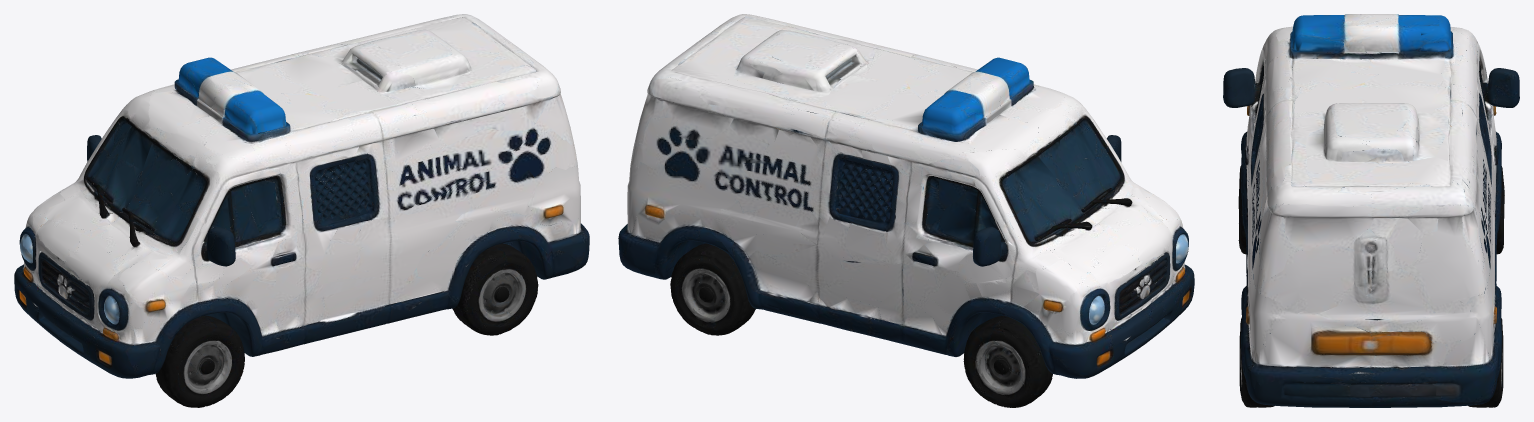
File: van_animal_control.glb
The picture shows the model from 3 angles, left to right: view 1: azimuth 30°, elevation 25°; view 2: azimuth 150°, elevation 25°; view 3: azimuth 270°, elevation 25°; orthographic projection. The views are drawn at different scales.
Visible parts, largest first — view 1: Mesh_0; view 2: Mesh_0; view 3: Mesh_0.
Boxes of the visible parts, <box> form: Mesh_0: <box>14,14,589,407</box>; Mesh_0: <box>618,14,1194,407</box>; Mesh_0: <box>1223,14,1519,407</box>.
Bounding box in the file's own units: 4 × 2.04 × 1.99.
Materials: 1 (1 with a texture image).
